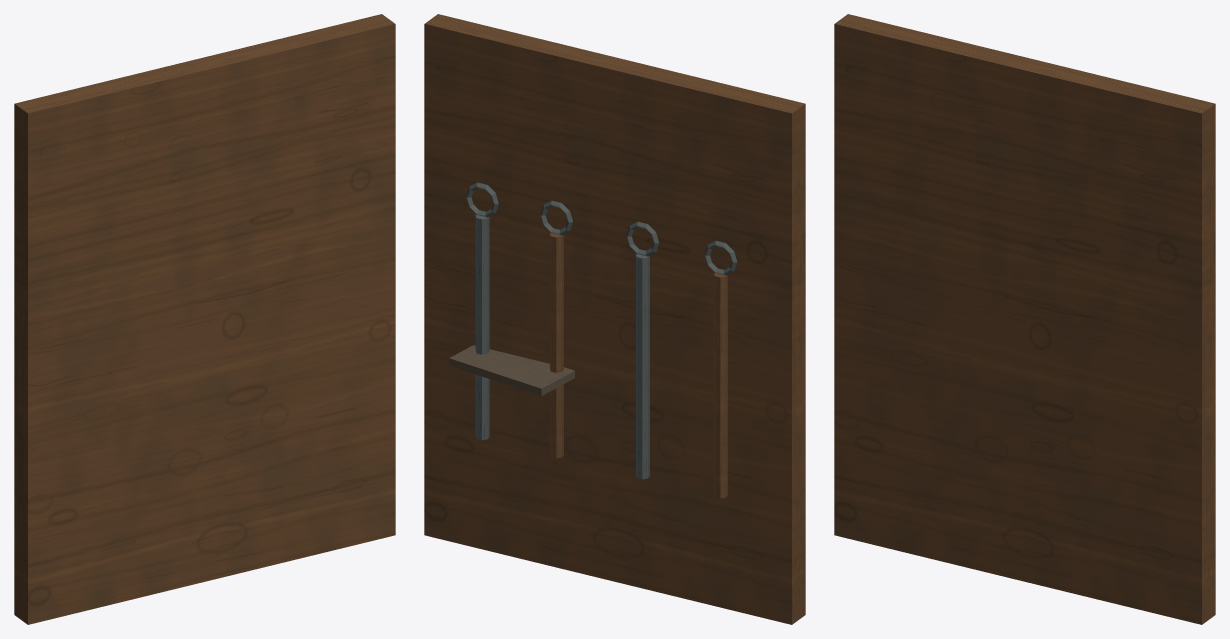
File: ax-craft-002_workbench_tool_board__used.obj
The picture shows the model from 3 angles, left to right: view 1: azimuth 30°, elevation 25°; view 2: azimuth 150°, elevation 25°; view 3: azimuth 330°, elevation 25°; orthographic projection.
Visible parts, largest first — view 1: ax-craft-002_workbench_tool_board__used; view 2: ax-craft-002_workbench_tool_board__used; view 3: ax-craft-002_workbench_tool_board__used.
Part boxes in pixels (left/top/right/bottom): ax-craft-002_workbench_tool_board__used: left=14, top=14, right=395, bottom=624; ax-craft-002_workbench_tool_board__used: left=424, top=14, right=805, bottom=624; ax-craft-002_workbench_tool_board__used: left=834, top=14, right=1215, bottom=624.
Size of the model in its own units: 0.94 by 1.25 by 0.1825.
3 materials, 3 textured.
